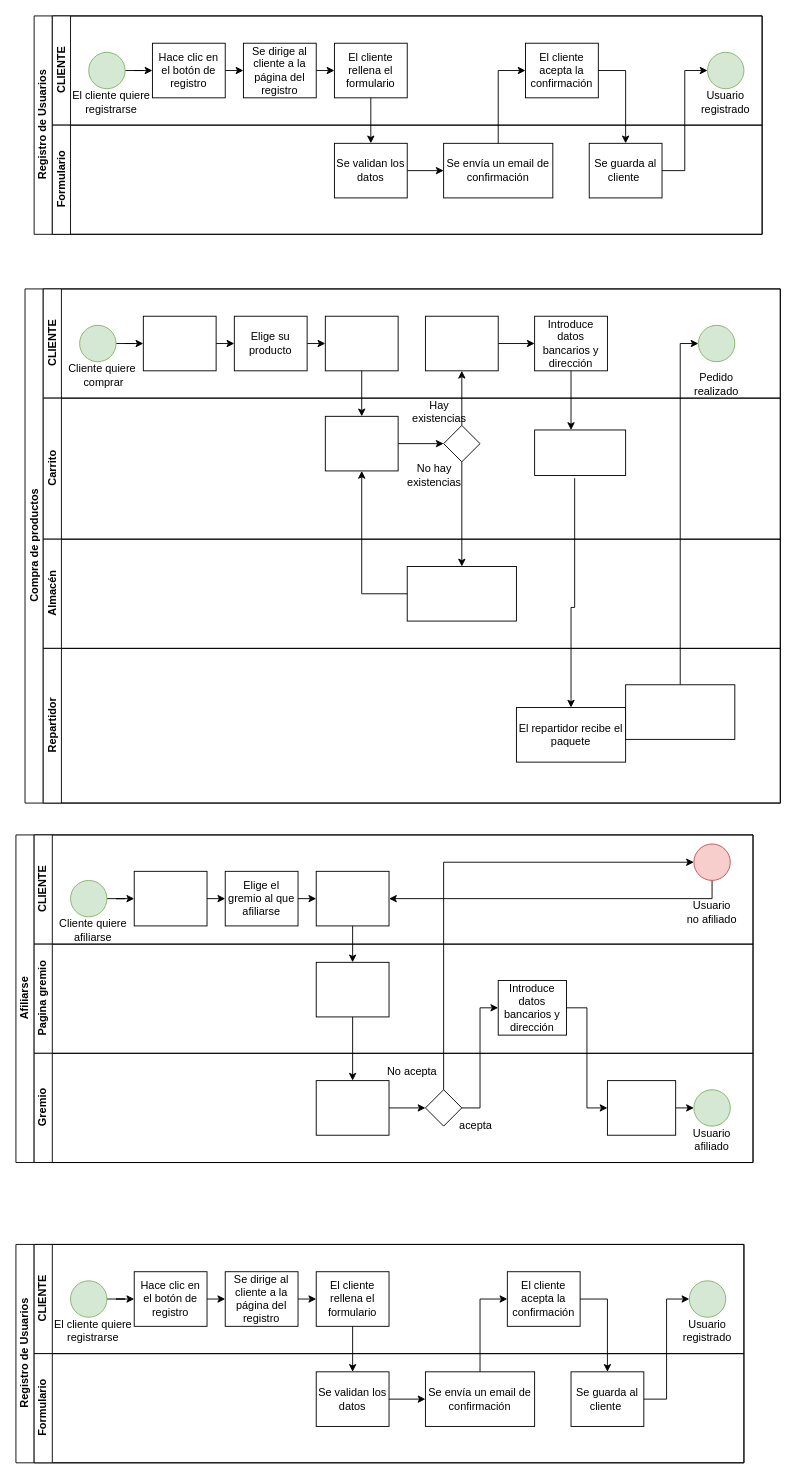
The diagram is 796 pixels wide and 1479 high, and some of its shapes have lost their labels. The shapes that lost their labels are listed below. From the top down, each one's centre as x and y in pixels, then its label:
At point (179, 343): "Hace clic en el botón de tienda".
At point (361, 343): "Se introduce en el carrito".
At point (461, 343): "Notifica al cliente si hay stock".
At point (361, 443): "Revisa el stock".
At point (580, 452): "Manda correo de confirmación de pedido".
At point (461, 593): "Actualiza el stock".
At point (680, 711): "El repartidor entrega el paquete".
At point (170, 898): "Hace clic en el botón de gremios".
At point (352, 898): "hace click en el apartado de afiliarse".
At point (352, 989): "Se envía una petición".
At point (352, 1107): "El gremio recibe la petición para unirse".
At point (641, 1107): "Se añade al usuario al gremio".
